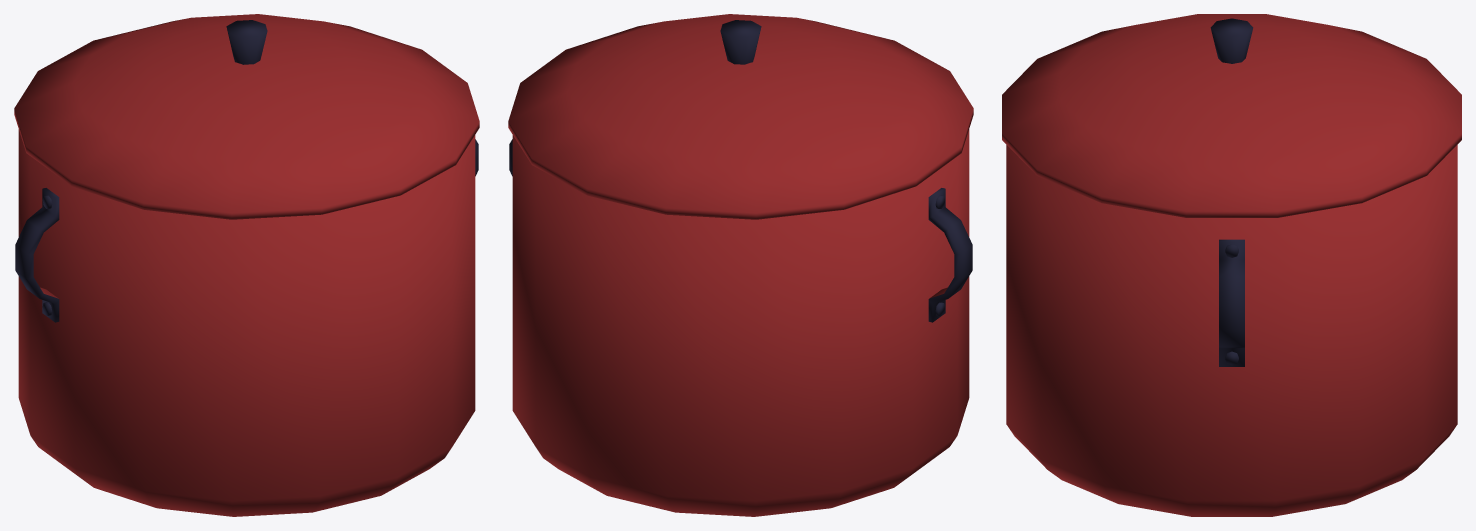
Rendered from кастрюля.fbx.
3 renders of one model, left to right at view 1: azimuth 30°, elevation 25°; view 2: azimuth 150°, elevation 25°; view 3: azimuth 270°, elevation 25°, orthographic.
Visible parts, largest first — view 1: каструл.004; view 2: каструл.004; view 3: каструл.004.
Part boxes in pixels (bbox=[...]): каструл.004: bbox=[14, 14, 479, 516]; каструл.004: bbox=[508, 14, 973, 516]; каструл.004: bbox=[1002, 14, 1461, 516].
Bounding box in the file's own units: 47.09 × 40.77 × 41.38.
